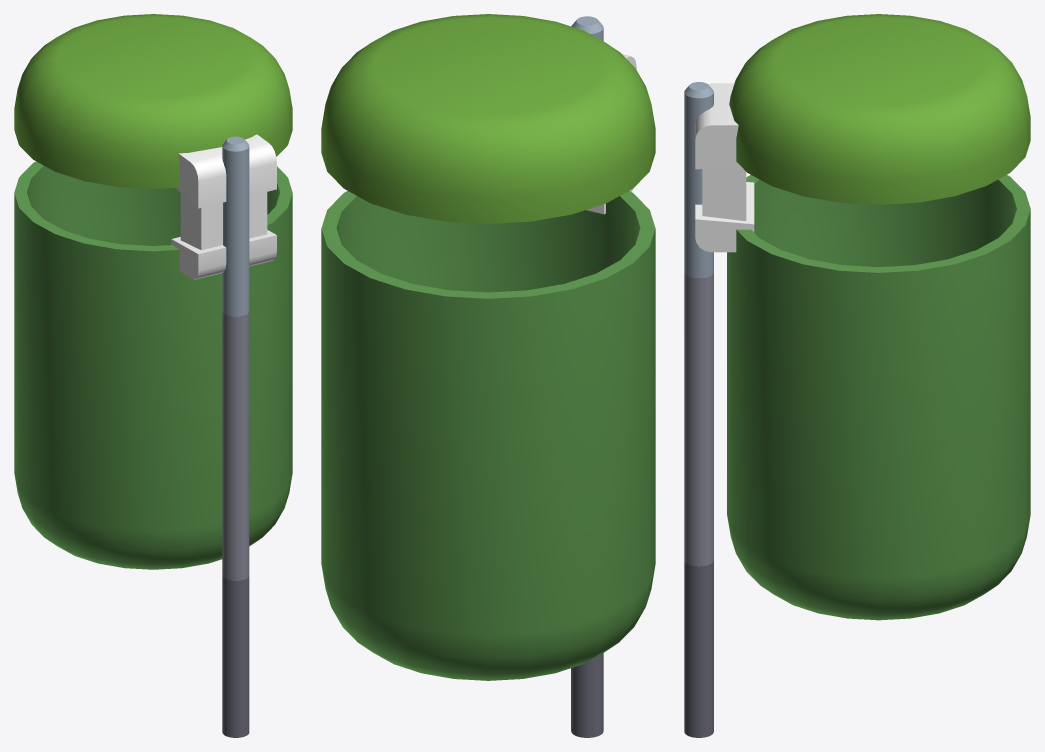
Rendered from cestoRcp.fbx.
The picture shows the model from 3 angles, left to right: view 1: azimuth 30°, elevation 25°; view 2: azimuth 150°, elevation 25°; view 3: azimuth 270°, elevation 25°; orthographic projection. The views are drawn at different scales.
Parts seen in each view (by area): view 1: cestoRcp; view 2: cestoRcp; view 3: cestoRcp.
Part boxes in pixels (bbox=[...]): cestoRcp: bbox=[14, 14, 292, 737]; cestoRcp: bbox=[321, 14, 655, 737]; cestoRcp: bbox=[684, 14, 1030, 737].
Bounding box in the file's own units: 102 × 249 × 117.
